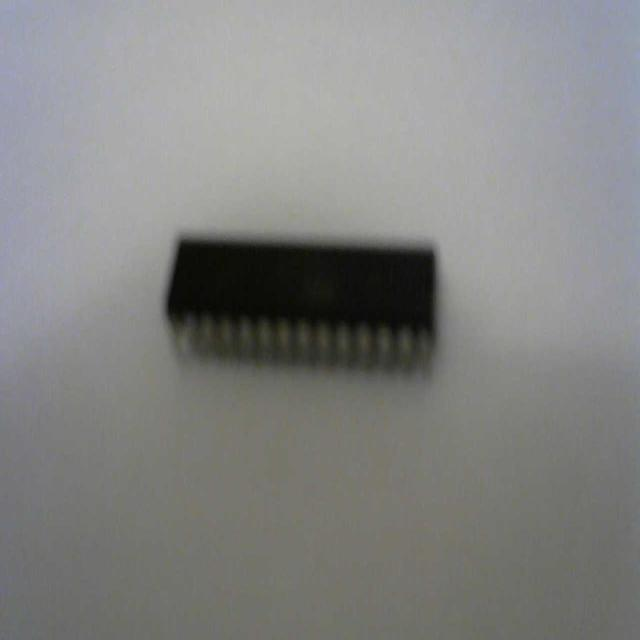atmega: (163, 229, 440, 379)
